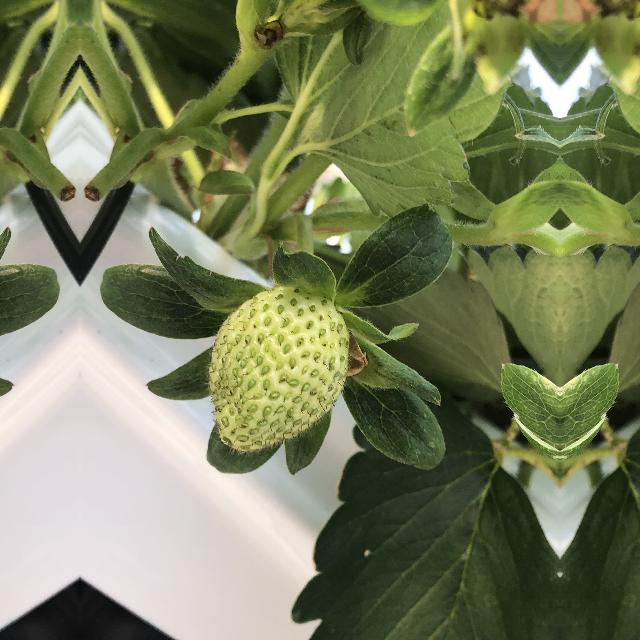Health_25: (205, 270, 365, 462)
